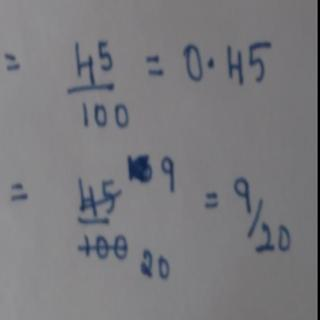.: (205, 55, 218, 71)
0: (183, 45, 205, 86), (153, 255, 172, 283), (114, 100, 129, 130), (276, 224, 292, 252), (94, 236, 110, 262)
1: (79, 97, 91, 131)
2: (137, 245, 156, 278), (258, 222, 273, 256)
4: (74, 42, 96, 87), (78, 172, 95, 220), (226, 46, 245, 88)
5: (247, 37, 272, 84), (100, 175, 116, 215), (97, 39, 117, 70)
9: (234, 176, 253, 217), (159, 157, 177, 197)
